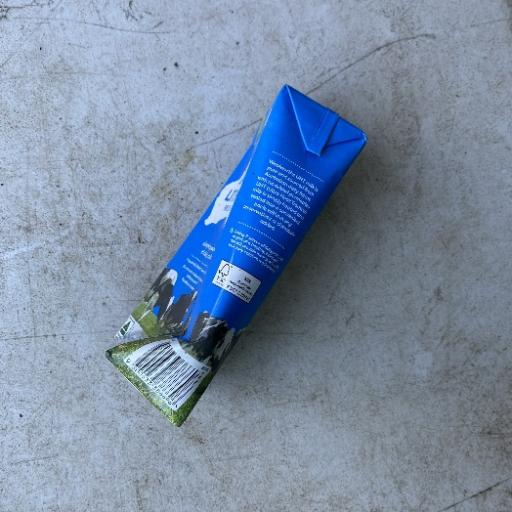Cardboard: (102, 82, 368, 428)
